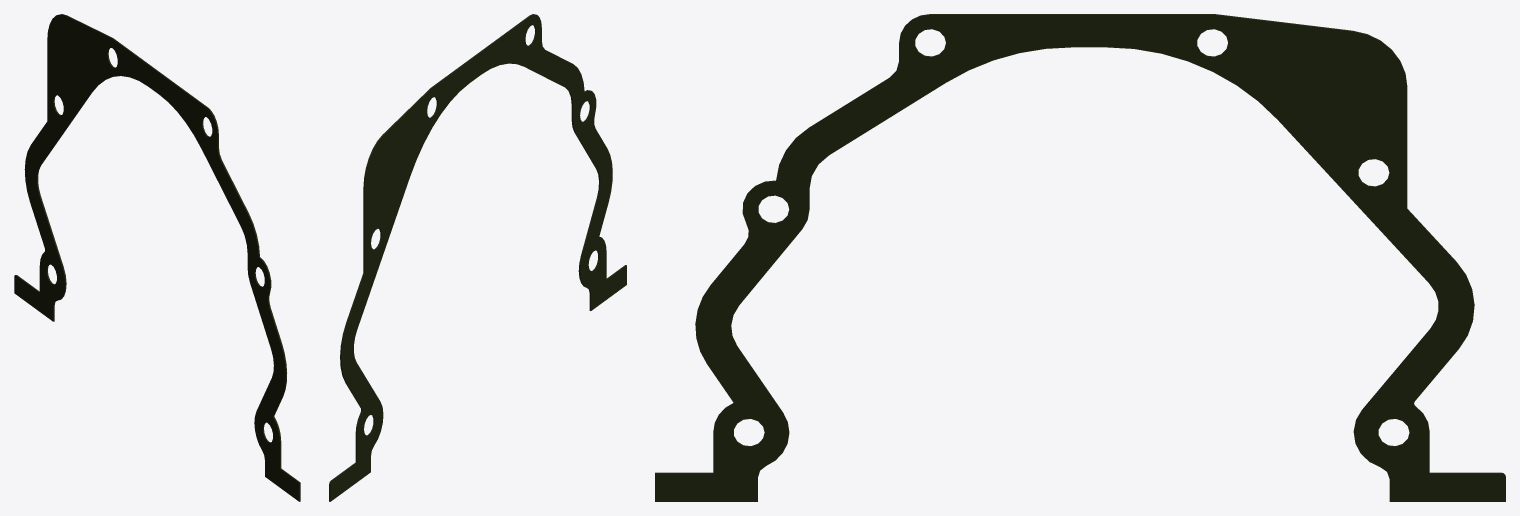
The model's file is Прокладка масляного насоса.obj.
3 views of the same model, side by side, from view 1: azimuth 30°, elevation 25°; view 2: azimuth 150°, elevation 25°; view 3: azimuth 270°, elevation 25° (orthographic). The views are drawn at different scales.
Visible parts, largest first — view 1: Прокладка_масляного_насоса; view 2: Прокладка_масляного_насоса; view 3: Прокладка_масляного_насоса.
Part boxes in pixels (x1,y1,x2,y2): Прокладка_масляного_насоса: (14,14,300,501); Прокладка_масляного_насоса: (329,14,626,501); Прокладка_масляного_насоса: (655,14,1505,501).
Size of the model in its own units: 0.5 by 120 by 190.
